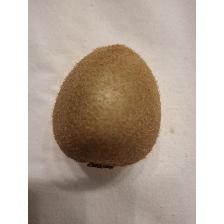Kiwi: (50, 43, 164, 172)
